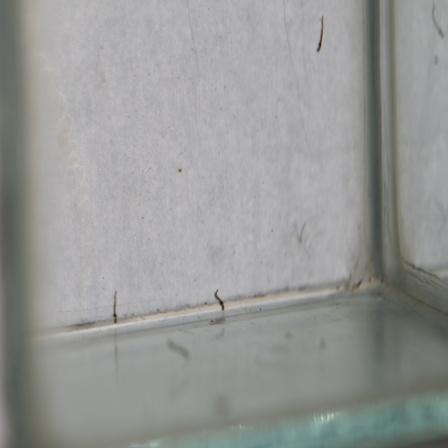Jentik-Nyamuk: (312, 12, 330, 57), (209, 284, 229, 317), (108, 287, 121, 329)
